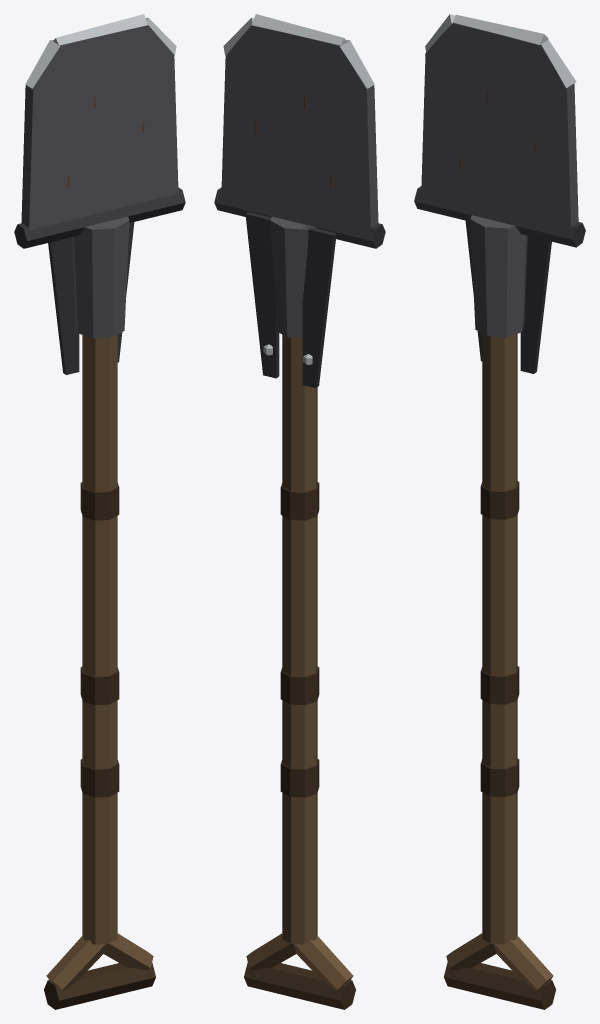
File: crowe_grave_spade.glb
The picture shows the model from 3 angles, left to right: view 1: azimuth 30°, elevation 25°; view 2: azimuth 150°, elevation 25°; view 3: azimuth 330°, elevation 25°; orthographic projection.
Visible parts, largest first — view 1: crowe_grave_spade; view 2: crowe_grave_spade; view 3: crowe_grave_spade.
Part boxes in pixels (bbox=[...]): crowe_grave_spade: bbox=[14, 14, 185, 1009]; crowe_grave_spade: bbox=[214, 14, 385, 1009]; crowe_grave_spade: bbox=[414, 14, 585, 1009].
Size of the model in its own units: 0.36 by 2.1 by 0.12.
